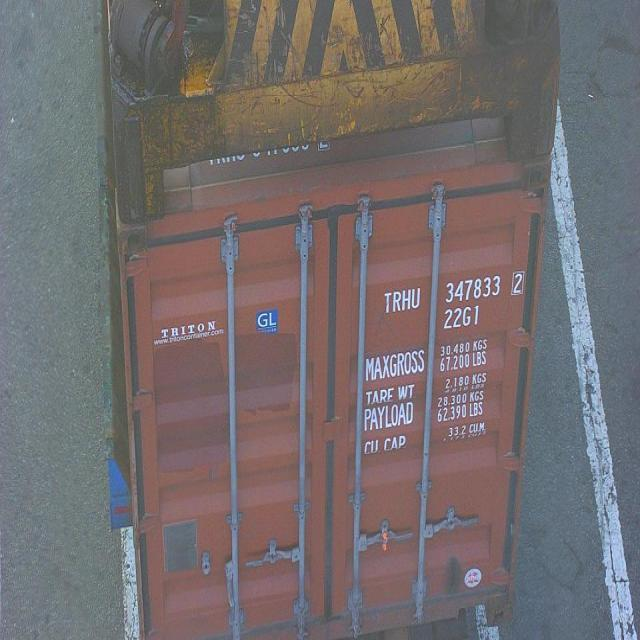ISO: (444, 306, 480, 330)
container_number: (383, 268, 528, 312)
